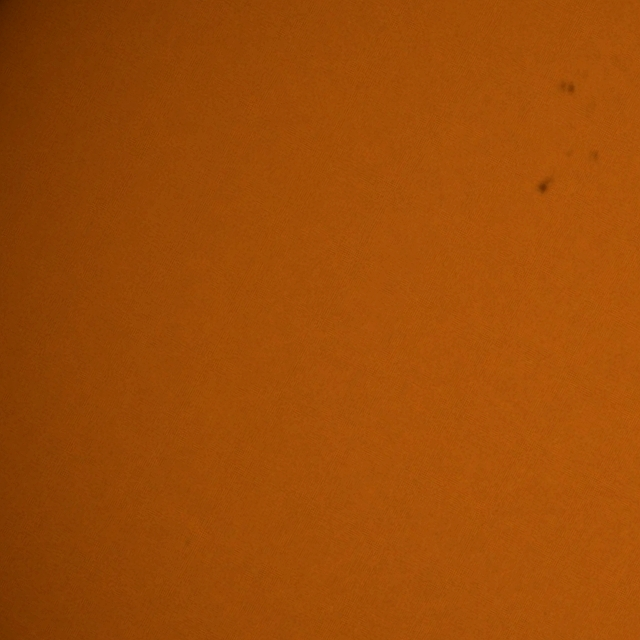sunspot: (535, 177, 550, 197), (559, 79, 576, 96)
